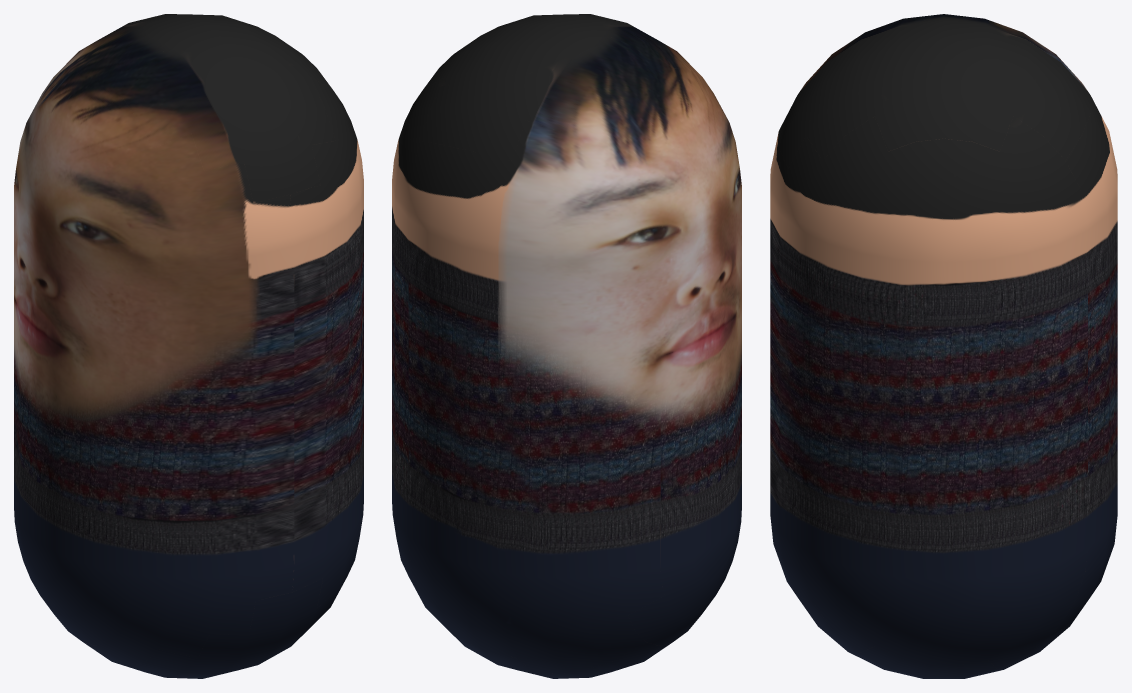
Rendered from Model 4-Robert Yang.fbx.
3 renders of one model, left to right at view 1: azimuth 30°, elevation 25°; view 2: azimuth 150°, elevation 25°; view 3: azimuth 270°, elevation 25°, orthographic.
Visible parts, largest first — view 1: Model 4_Robert Yang; view 2: Model 4_Robert Yang; view 3: Model 4_Robert Yang.
Part boxes in pixels (x1=…): Model 4_Robert Yang: x1=14, y1=14, x2=363, y2=678; Model 4_Robert Yang: x1=392, y1=14, x2=741, y2=678; Model 4_Robert Yang: x1=770, y1=14, x2=1117, y2=678.
Size of the model in its own units: 200 by 398 by 199.
Materials: 1 (1 with a texture image).
